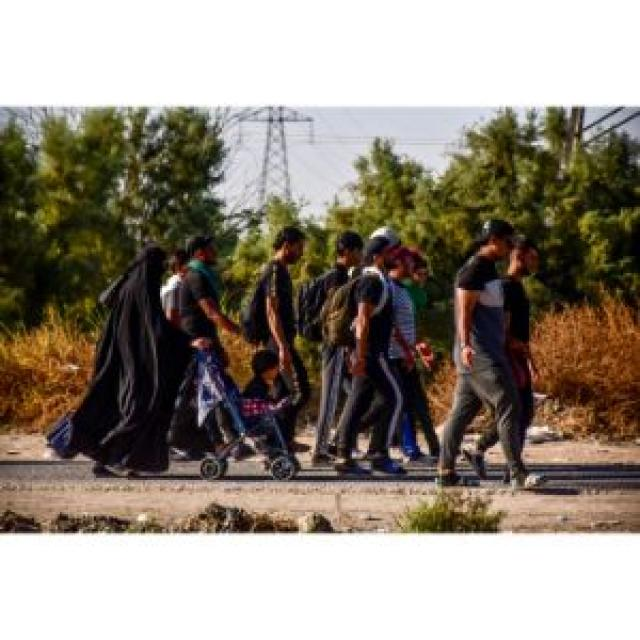nonfall: (444, 221, 530, 475), (94, 246, 170, 479), (334, 242, 410, 473), (248, 230, 324, 454), (173, 232, 236, 468)
